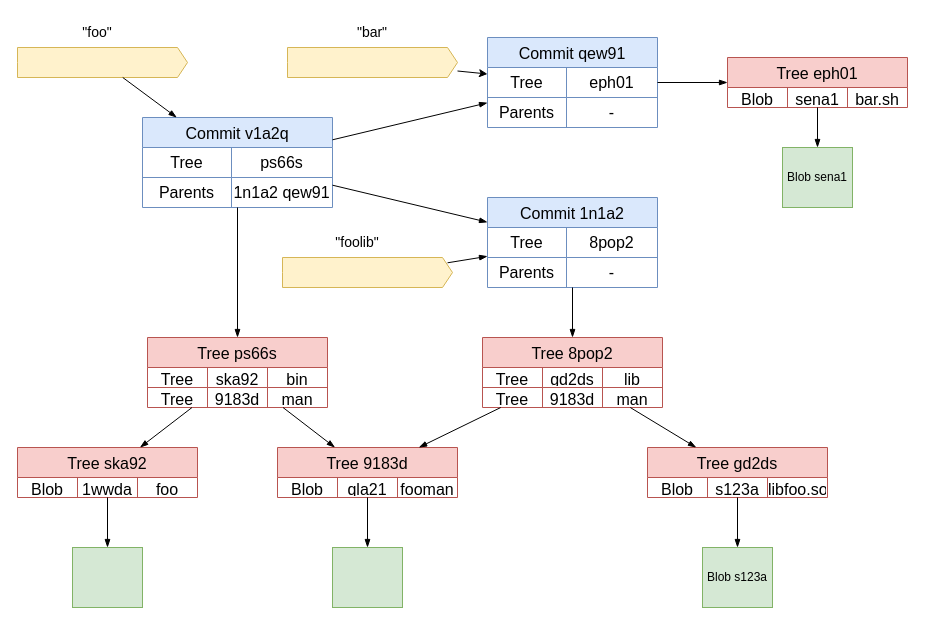
The diagram is 925 pixels wide and 625 high, and some of its shapes have lost their labels. The shapes that lost their labels are listed below. From the top down, each one's centre as x and y in pixels, then its label:
pixel 102 62: Reference refs/sa8d2/pkg
pixel 372 62: Reference refs/dg7c6/pkg
pixel 367 272: Reference refs/ba1l3/pkg
pixel 107 577: Blob 1wwda
pixel 367 577: Blob qla21
